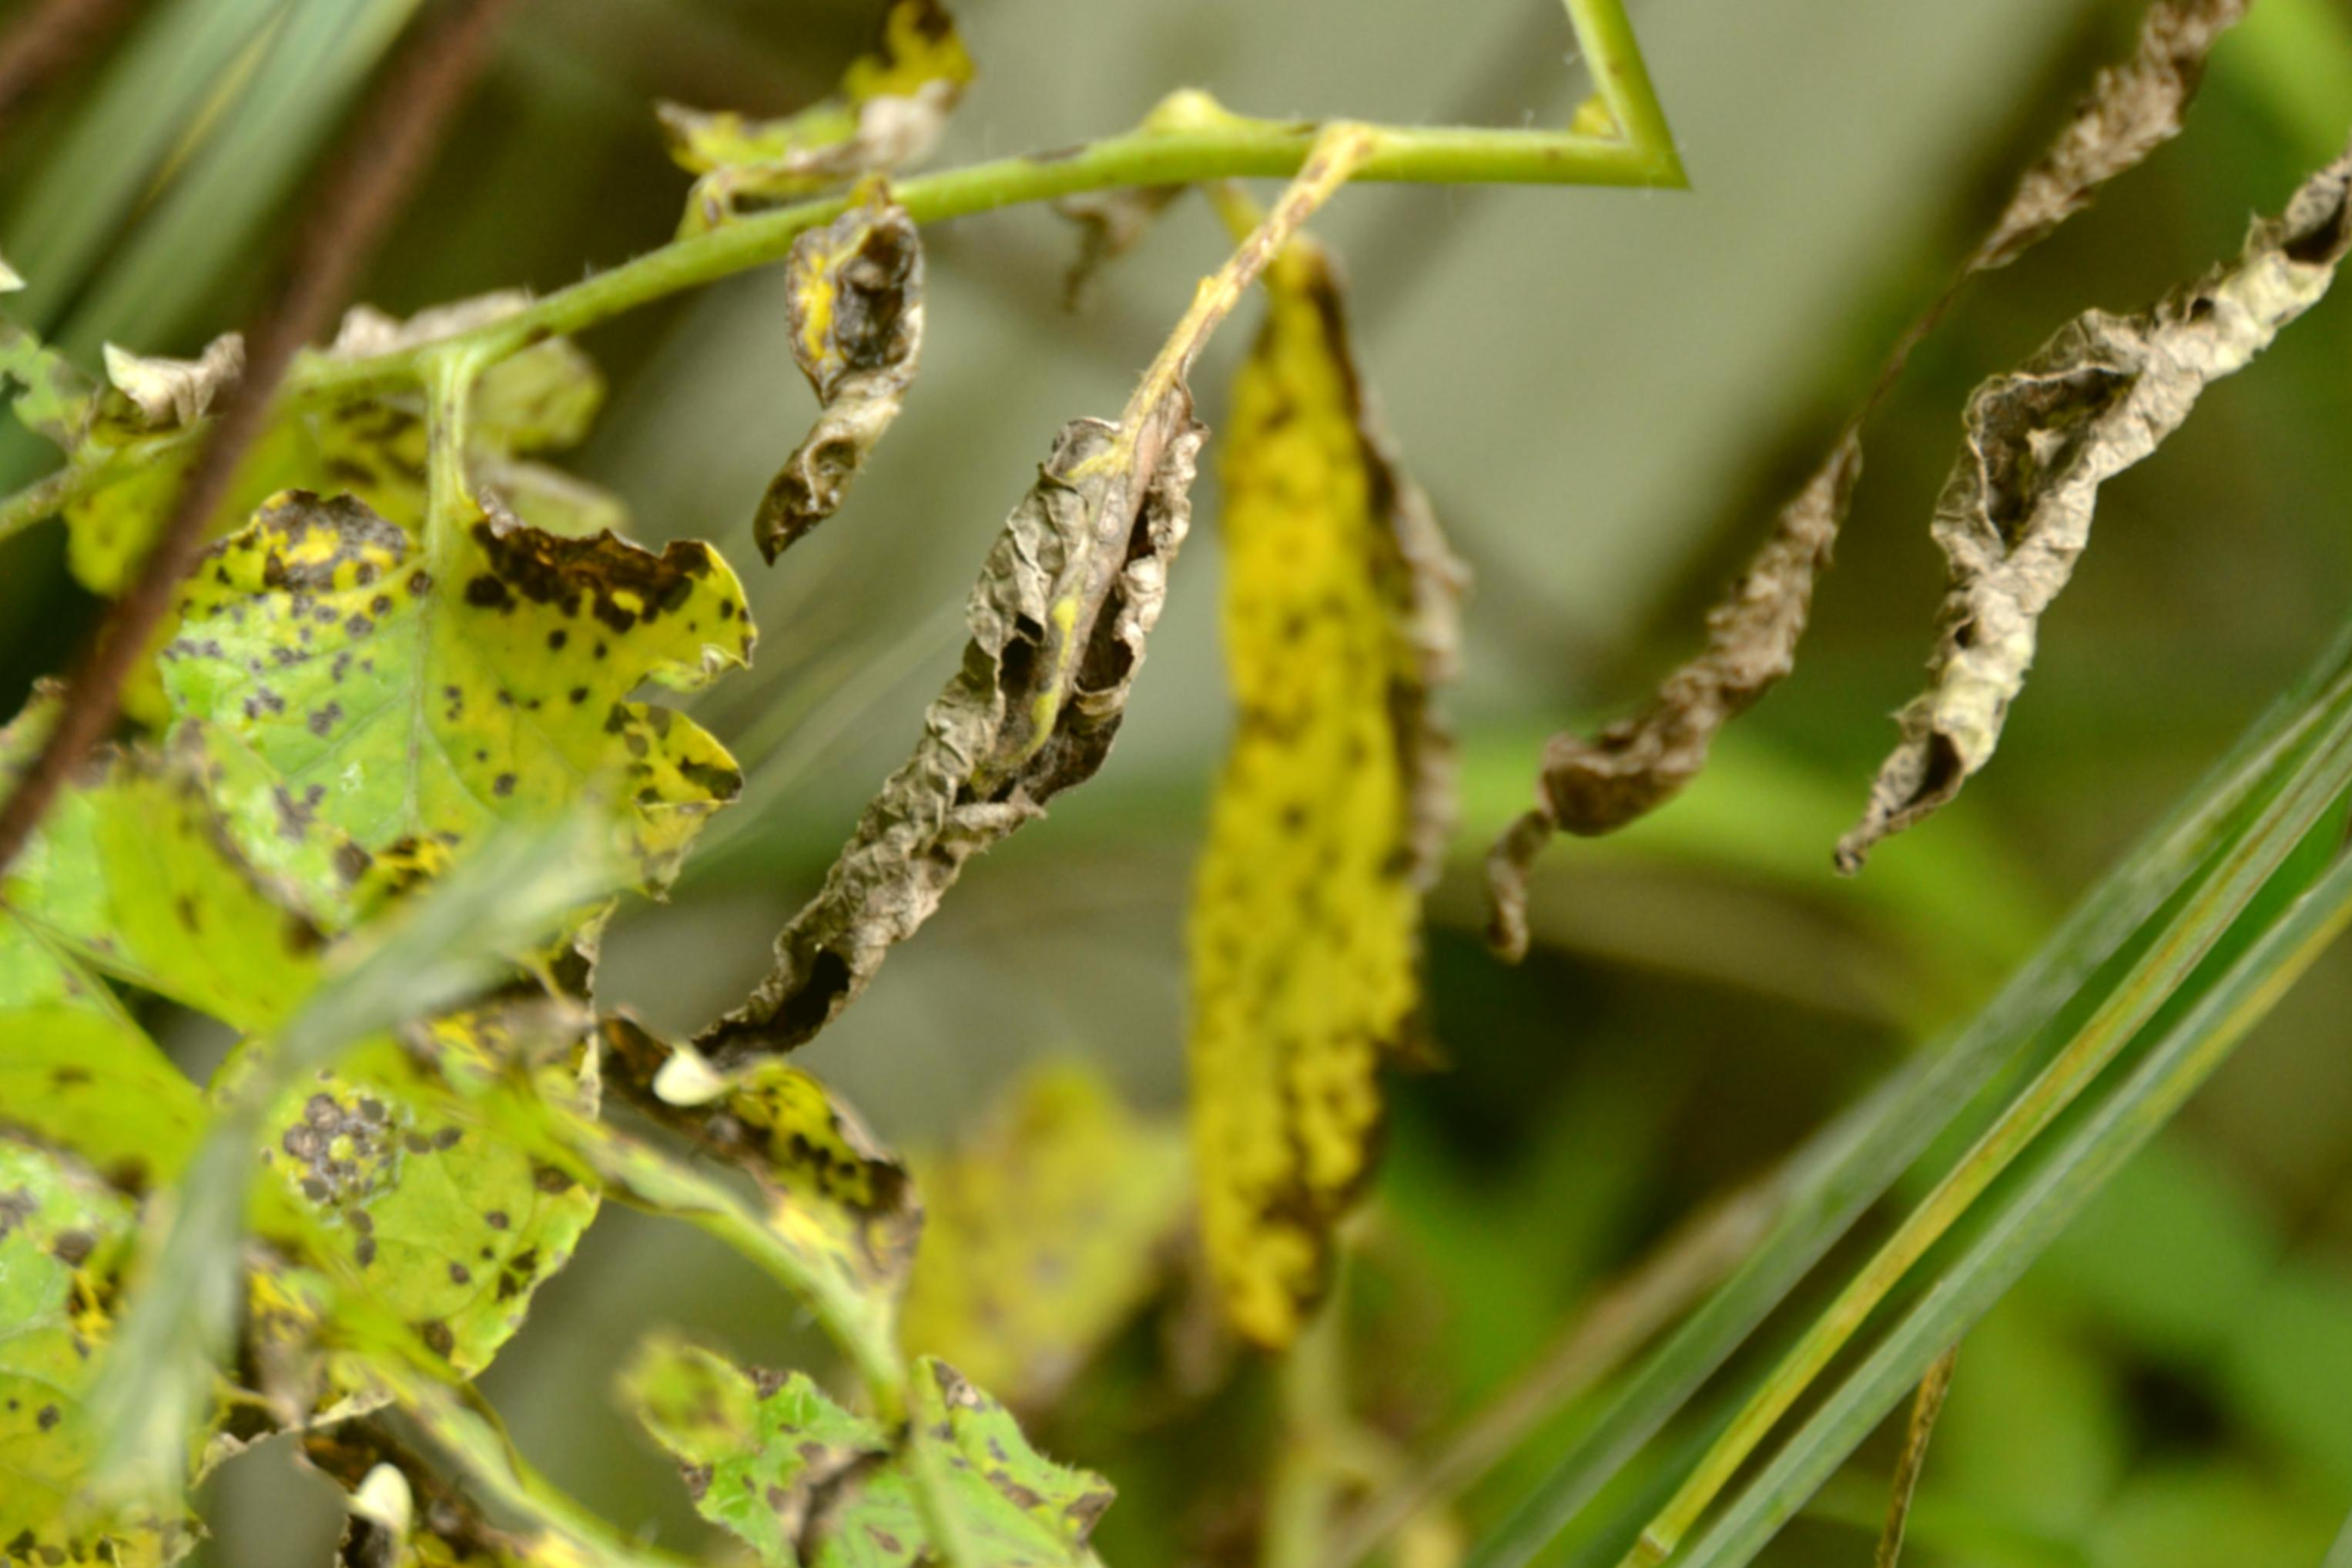Tomato Septoria leaf spot: (786, 248, 1814, 1336), (0, 318, 938, 1277)
